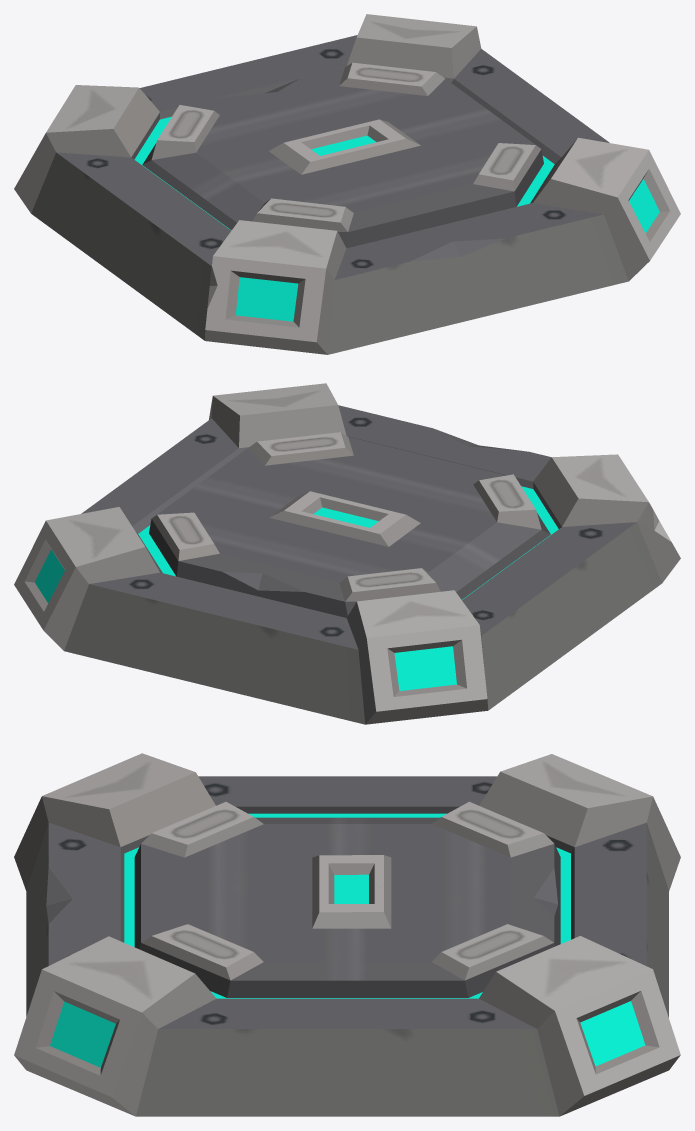
Rendered from SM_Prop_Manholes_04.fbx.
3 views of the same model, one above another, from view 1: azimuth 30°, elevation 25°; view 2: azimuth 150°, elevation 25°; view 3: azimuth 270°, elevation 25° (orthographic). The views are drawn at different scales.
Parts seen in each view (by area): view 1: SM_Prop_Manholes_04; view 2: SM_Prop_Manholes_04; view 3: SM_Prop_Manholes_04.
Boxes of the visible parts, box(x1,y1,x2,y2) form: SM_Prop_Manholes_04: box(14, 14, 680, 354); SM_Prop_Manholes_04: box(14, 383, 680, 724); SM_Prop_Manholes_04: box(14, 753, 680, 1116).
Size of the model in its own units: 117 by 20.87 by 117.
